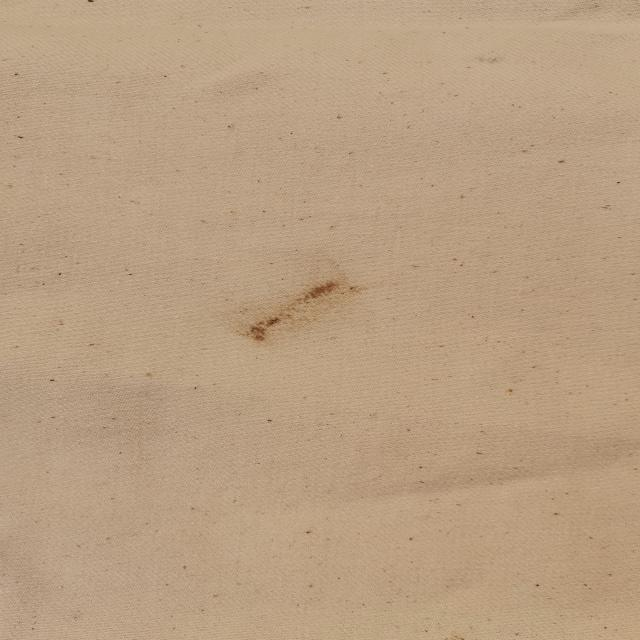taaaches: (222, 266, 368, 352)
